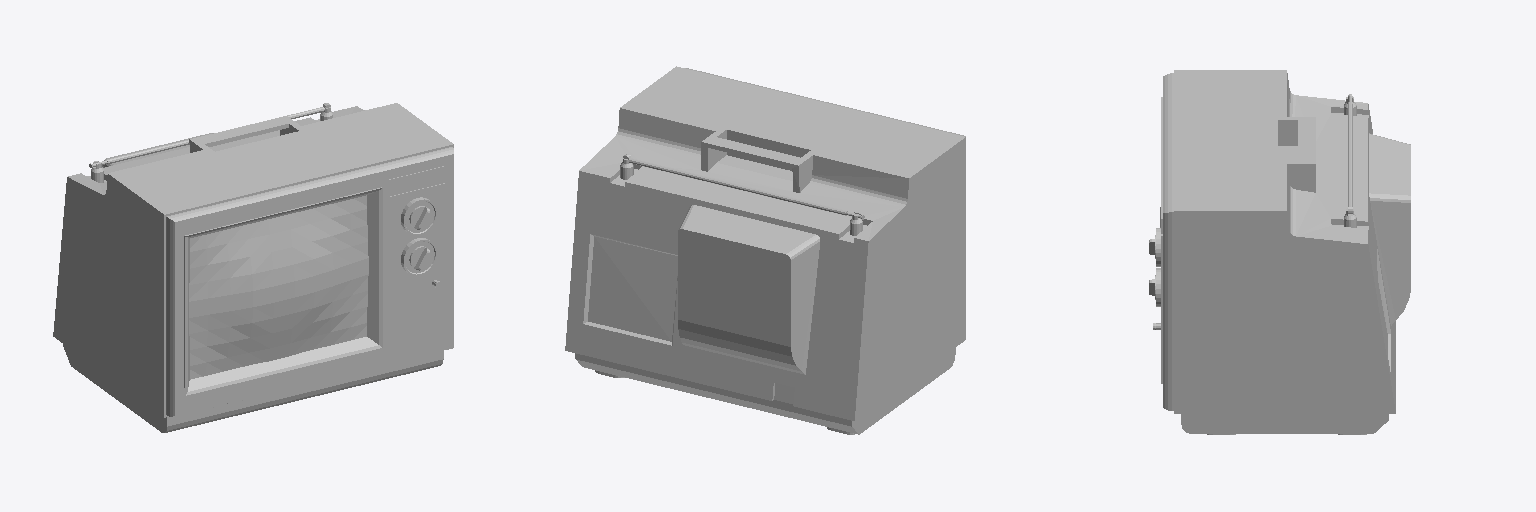
3 renders of one model, left to right at view 1: azimuth 30°, elevation 25°; view 2: azimuth 150°, elevation 25°; view 3: azimuth 270°, elevation 25°, orthographic.
Visible parts, largest first — view 1: Television_01_Cube.021; view 2: Television_01_Cube.021; view 3: Television_01_Cube.021.
Boxes of the visible parts, x1,y1,x2,y2 form: Television_01_Cube.021: [53, 103, 453, 432]; Television_01_Cube.021: [565, 66, 965, 434]; Television_01_Cube.021: [1149, 70, 1410, 434].
Bounding box in the file's own units: 0.6 × 0.4568 × 0.4708.